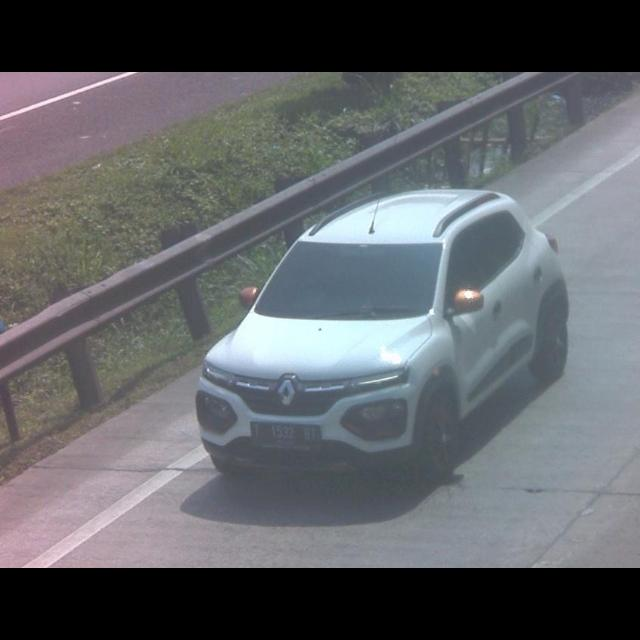plate: (247, 418, 325, 450)
